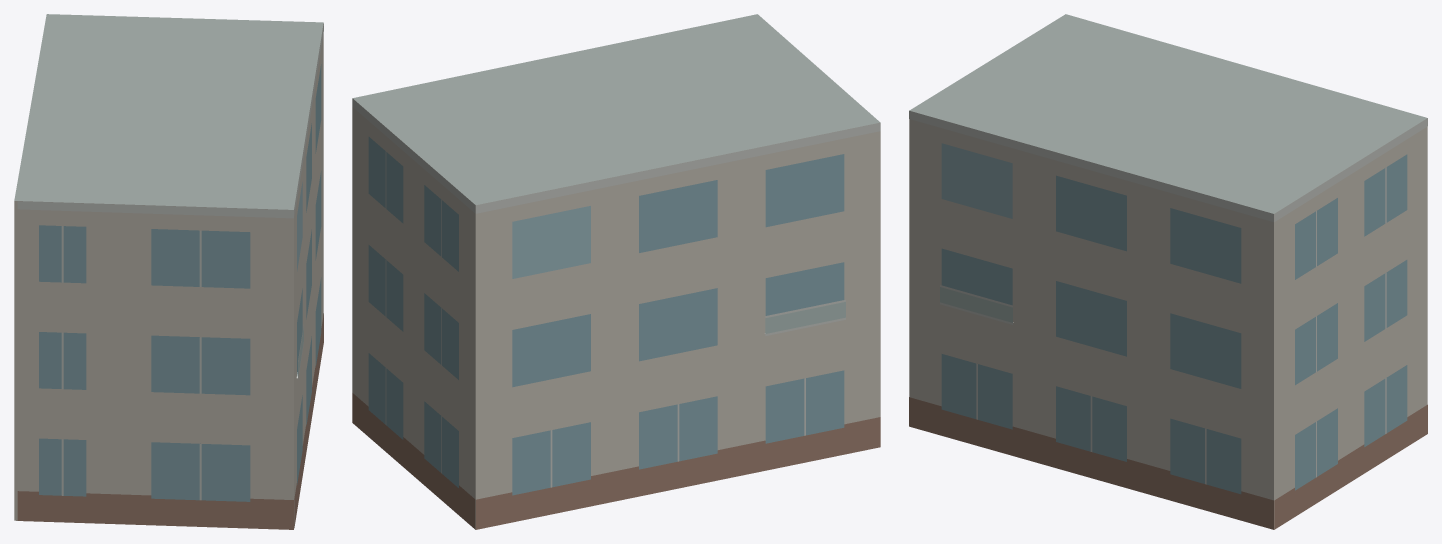
The model's file is survey-upis-32897568.glb.
3 renders of one model, left to right at view 1: azimuth 30°, elevation 25°; view 2: azimuth 150°, elevation 25°; view 3: azimuth 270°, elevation 25°, orthographic. The views are drawn at different scales.
Parts seen in each view (by area): view 1: survey-upis-32897568.tmp; view 2: survey-upis-32897568.tmp; view 3: survey-upis-32897568.tmp.
Part boxes in pixels (x1,y1,x2,y2): survey-upis-32897568.tmp: [14, 14, 323, 529]; survey-upis-32897568.tmp: [352, 14, 880, 529]; survey-upis-32897568.tmp: [909, 14, 1427, 529].
Size of the model in its own units: 12.54 by 9.23 by 13.74.
